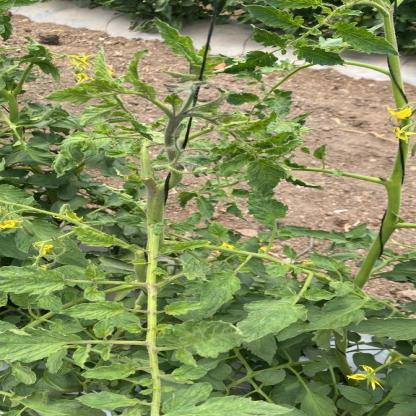T_L_H: (301, 385, 338, 416), (242, 334, 278, 365), (388, 369, 416, 404), (339, 386, 374, 405), (257, 371, 287, 387)
T_L_R: (1, 220, 89, 268), (158, 321, 244, 359), (238, 297, 309, 343), (248, 159, 291, 229), (1, 328, 82, 363), (309, 295, 384, 330), (164, 397, 293, 416), (335, 23, 398, 56), (200, 271, 241, 318), (1, 267, 65, 296), (53, 133, 95, 177), (216, 51, 280, 75), (163, 384, 213, 414), (245, 6, 304, 30), (355, 319, 416, 341), (248, 196, 288, 229), (78, 393, 150, 411), (62, 302, 125, 321), (310, 254, 351, 282), (294, 48, 345, 67), (82, 363, 135, 381), (73, 228, 115, 248), (46, 88, 93, 104), (254, 27, 288, 49), (182, 255, 210, 281), (161, 241, 212, 254), (166, 302, 206, 316), (50, 320, 86, 335), (173, 366, 209, 381), (13, 363, 37, 385), (39, 295, 63, 313), (93, 320, 115, 339), (304, 290, 336, 302), (267, 265, 291, 278)
T_S_H: (341, 133, 405, 290), (144, 190, 164, 416), (379, 1, 411, 122)
